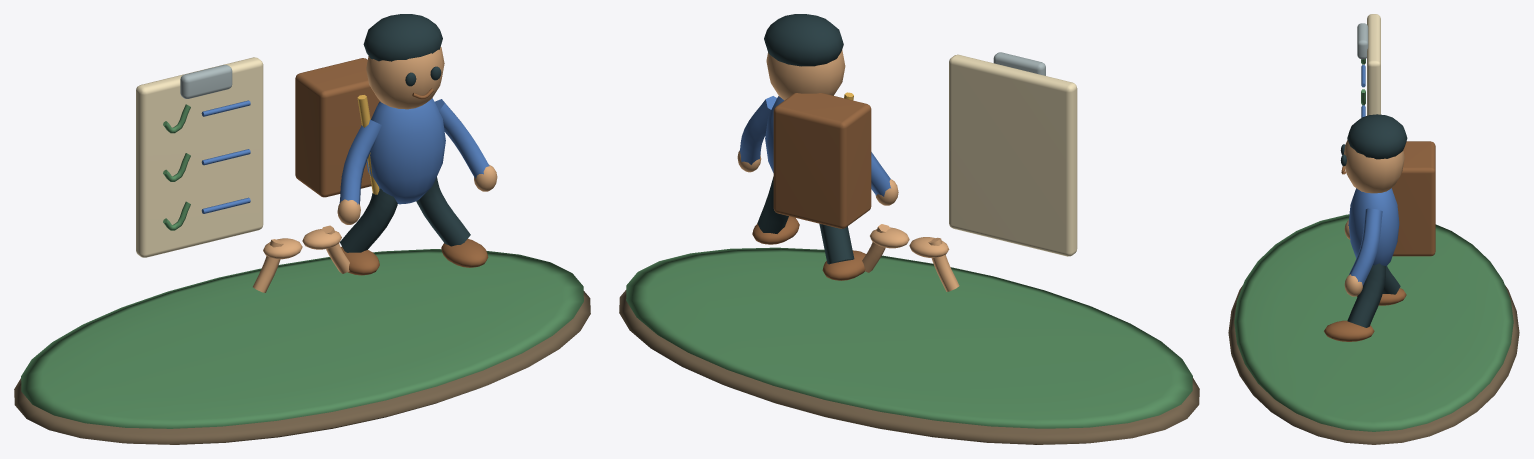
The model's file is complete-second-responsibility-bearer.glb.
3 renders of one model, left to right at view 1: azimuth 30°, elevation 25°; view 2: azimuth 150°, elevation 25°; view 3: azimuth 270°, elevation 25°, orthographic. The views are drawn at different scales.
Parts seen in each view (by area): view 1: complete-second-responsibility-bearer_surface_01, complete-second-responsibility-bearer_surface_02, complete-second-responsibility-bearer_surface_00, complete-second-responsibility-bearer_surface_04, complete-second-responsibility-bearer_surface_07, complete-second-responsibility-bearer_surface_06, complete-second-responsibility-bearer_surface_05, complete-second-responsibility-bearer_surface_03; view 2: complete-second-responsibility-bearer_surface_01, complete-second-responsibility-bearer_surface_02, complete-second-responsibility-bearer_surface_07, complete-second-responsibility-bearer_surface_00, complete-second-responsibility-bearer_surface_05, complete-second-responsibility-bearer_surface_06, complete-second-responsibility-bearer_surface_04, complete-second-responsibility-bearer_surface_03; view 3: complete-second-responsibility-bearer_surface_01, complete-second-responsibility-bearer_surface_07, complete-second-responsibility-bearer_surface_00, complete-second-responsibility-bearer_surface_06, complete-second-responsibility-bearer_surface_04, complete-second-responsibility-bearer_surface_05, complete-second-responsibility-bearer_surface_02, complete-second-responsibility-bearer_surface_03.
Boxes of the visible parts, x1=… form: complete-second-responsibility-bearer_surface_01: x1=21, y1=104, x2=583, y2=428; complete-second-responsibility-bearer_surface_02: x1=136, y1=57, x2=263, y2=257; complete-second-responsibility-bearer_surface_00: x1=14, y1=291, x2=590, y2=444; complete-second-responsibility-bearer_surface_04: x1=201, y1=98, x2=489, y2=213; complete-second-responsibility-bearer_surface_07: x1=295, y1=58, x2=488, y2=275; complete-second-responsibility-bearer_surface_06: x1=340, y1=14, x2=470, y2=252; complete-second-responsibility-bearer_surface_05: x1=253, y1=46, x2=497, y2=292; complete-second-responsibility-bearer_surface_03: x1=180, y1=65, x2=232, y2=98; complete-second-responsibility-bearer_surface_01: x1=626, y1=247, x2=1192, y2=428; complete-second-responsibility-bearer_surface_02: x1=949, y1=54, x2=1077, y2=256; complete-second-responsibility-bearer_surface_07: x1=752, y1=93, x2=871, y2=280; complete-second-responsibility-bearer_surface_00: x1=619, y1=290, x2=1199, y2=444; complete-second-responsibility-bearer_surface_05: x1=737, y1=50, x2=959, y2=291; complete-second-responsibility-bearer_surface_06: x1=757, y1=14, x2=854, y2=264; complete-second-responsibility-bearer_surface_04: x1=739, y1=96, x2=890, y2=196; complete-second-responsibility-bearer_surface_03: x1=993, y1=52, x2=1045, y2=75; complete-second-responsibility-bearer_surface_01: x1=1234, y1=59, x2=1513, y2=431; complete-second-responsibility-bearer_surface_07: x1=1324, y1=141, x2=1435, y2=341; complete-second-responsibility-bearer_surface_00: x1=1228, y1=285, x2=1519, y2=444; complete-second-responsibility-bearer_surface_06: x1=1340, y1=114, x2=1407, y2=327; complete-second-responsibility-bearer_surface_04: x1=1348, y1=65, x2=1399, y2=286; complete-second-responsibility-bearer_surface_05: x1=1344, y1=140, x2=1404, y2=296; complete-second-responsibility-bearer_surface_02: x1=1367, y1=14, x2=1380, y2=115; complete-second-responsibility-bearer_surface_03: x1=1357, y1=23, x2=1368, y2=59.
Size of the model in its own units: 4.56 by 2.59 by 2.5.
